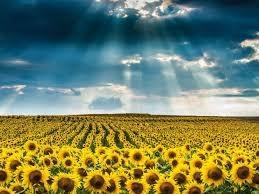field: (0, 115, 258, 193)
